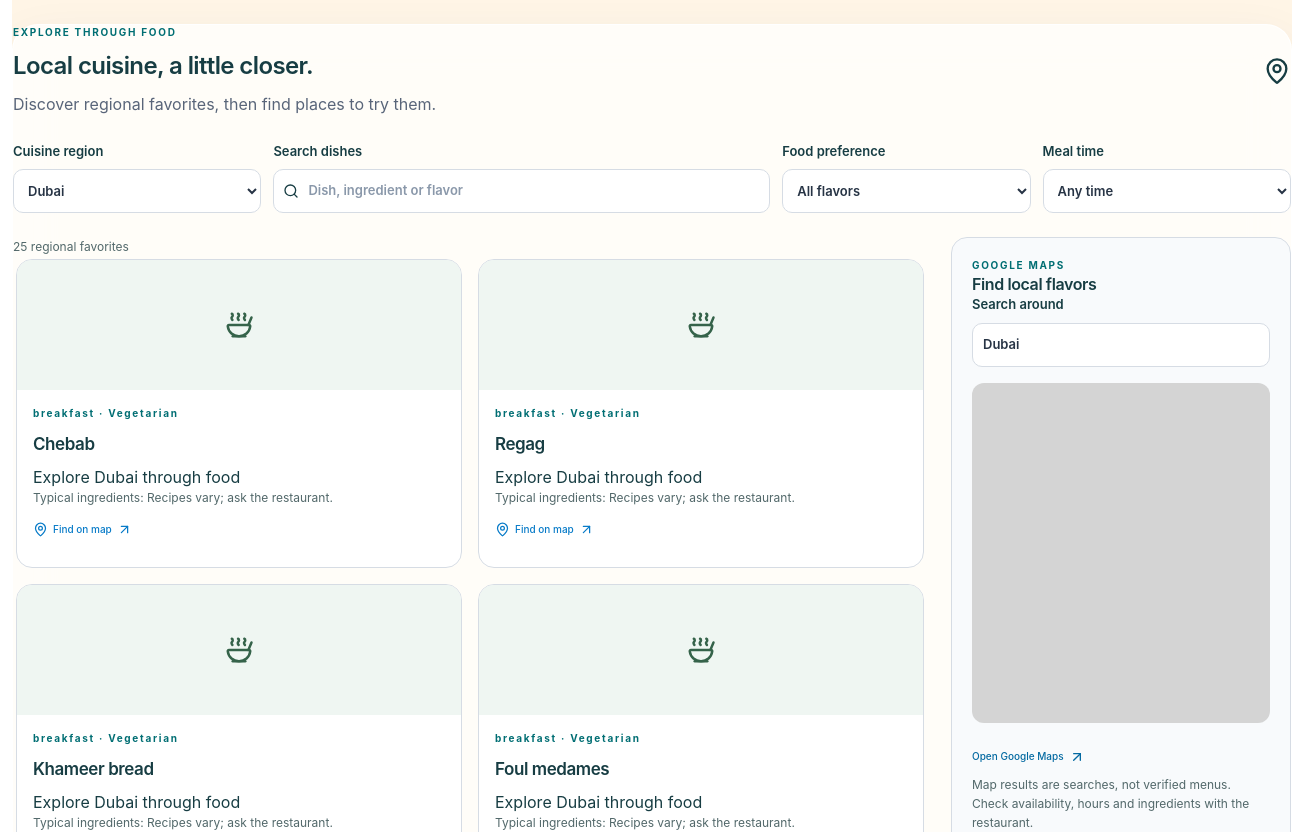
Test: offers Dubai cuisine without replacing Kerala cuisine
Select "Kerala" in the dropdown labelled "Cuisine region". click: coordinates (137, 191)
box: [13,169,261,213]
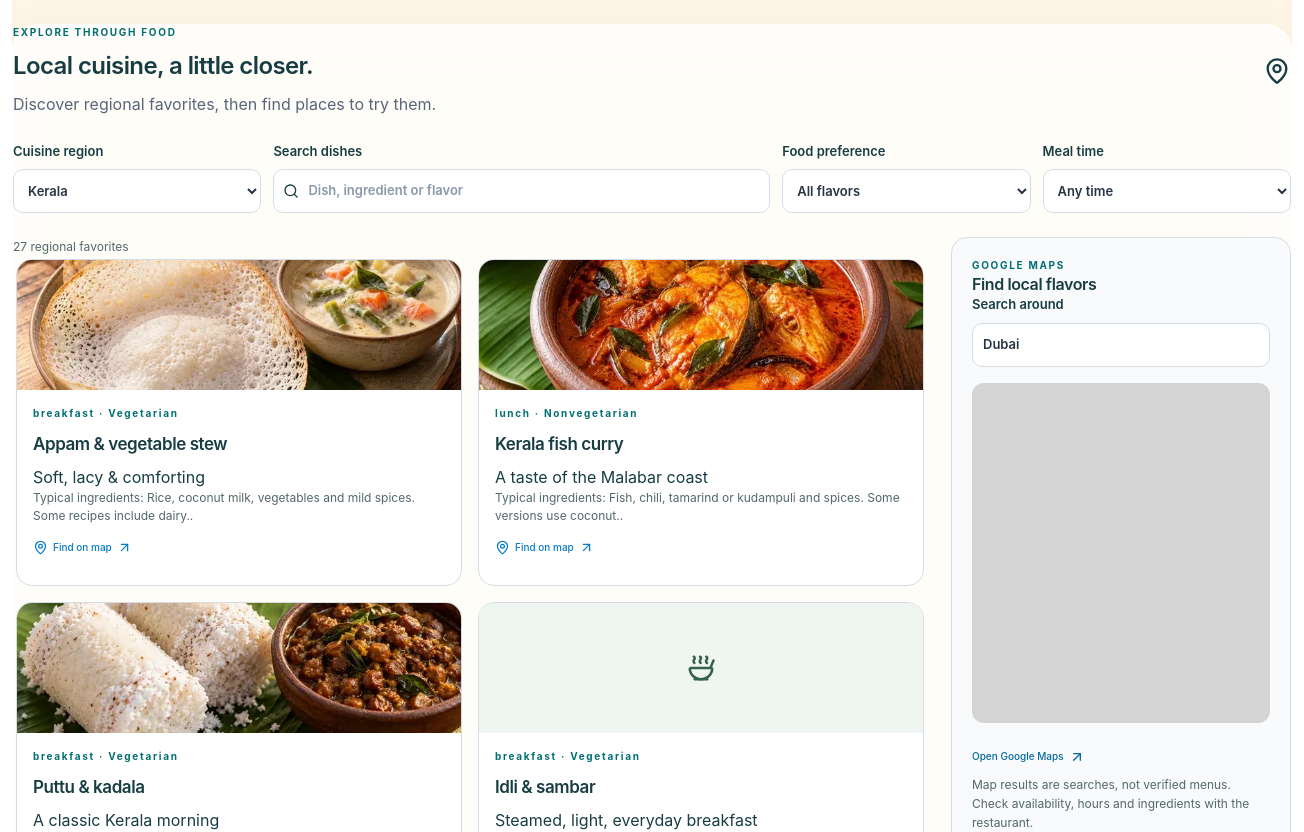
Result: the heading "Puttu & kadala" is shown at [33,777,145,797]
